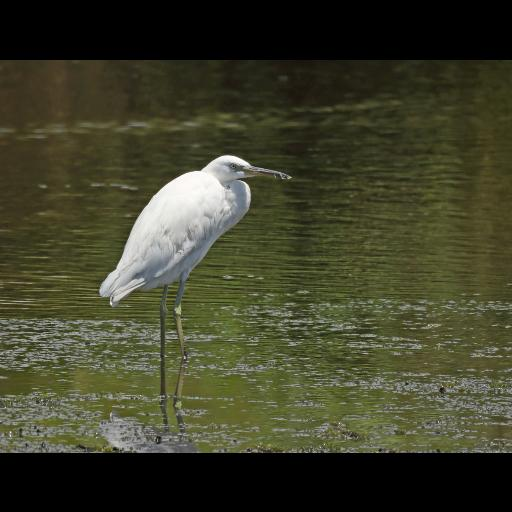chinese_egret: (98, 154, 292, 358)
